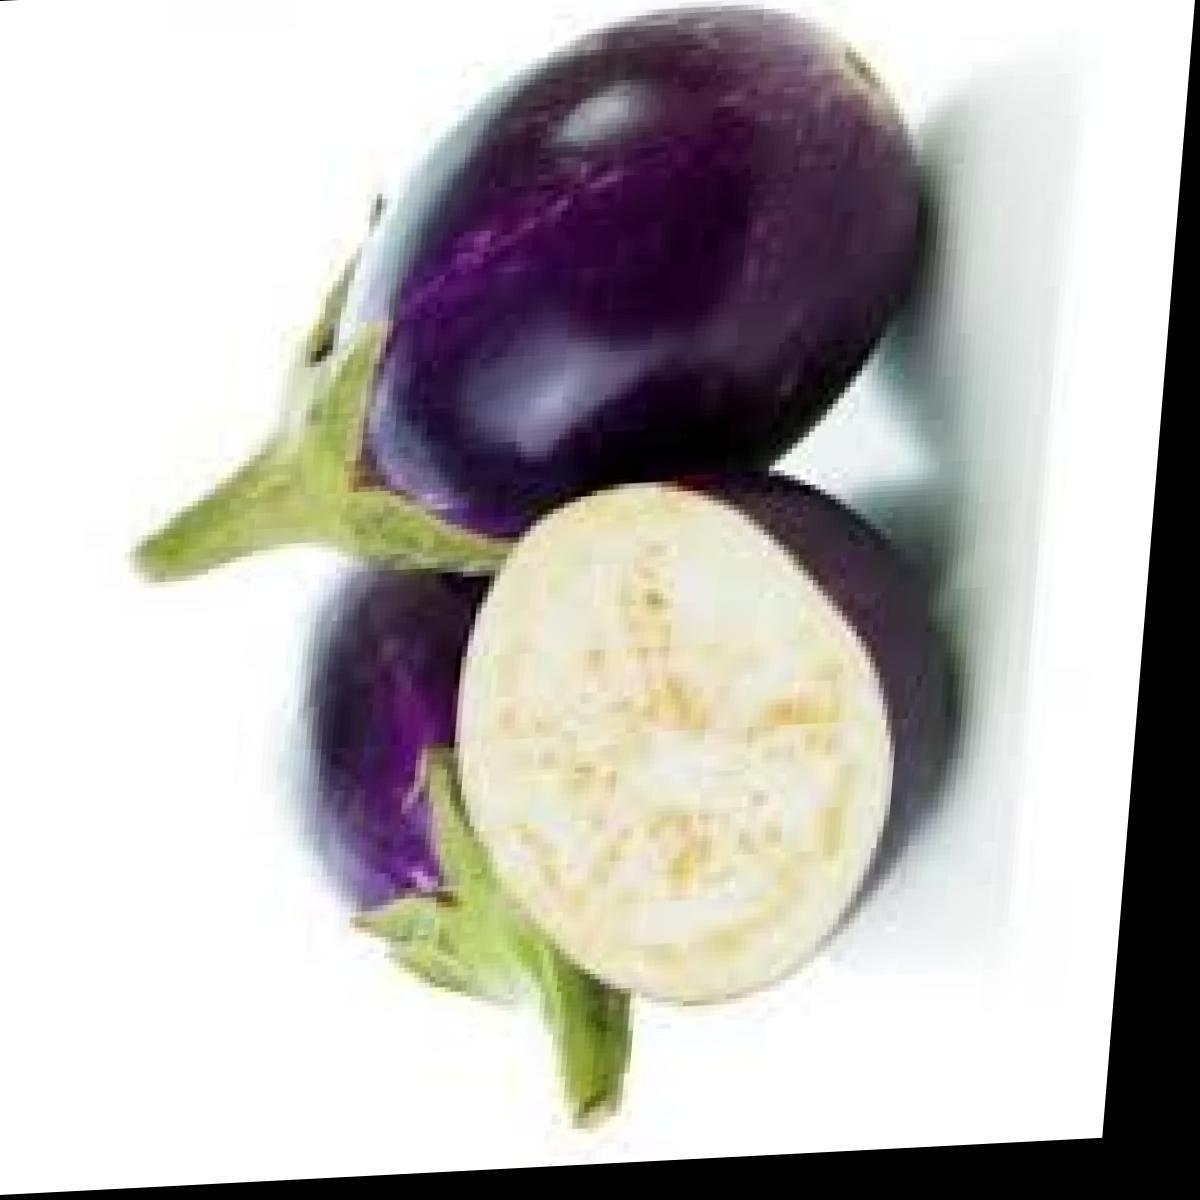eggplant: (160, 101, 979, 1054)
